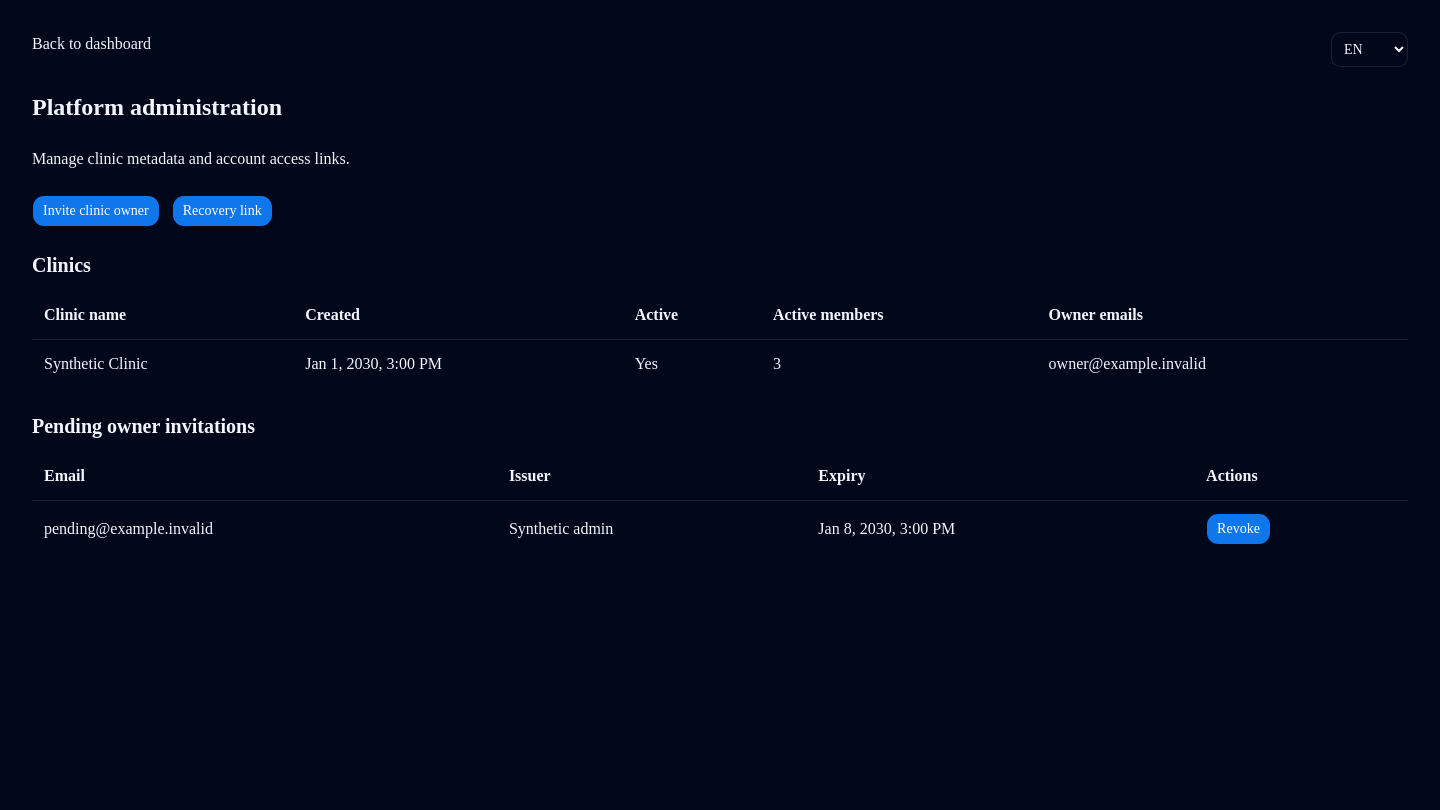
it: retains issuance failure and maps a recovery domain error
The image size is (1440, 810).
Step 1. Click the button "Recovery link" → (222, 211), box [172, 195, 273, 227]
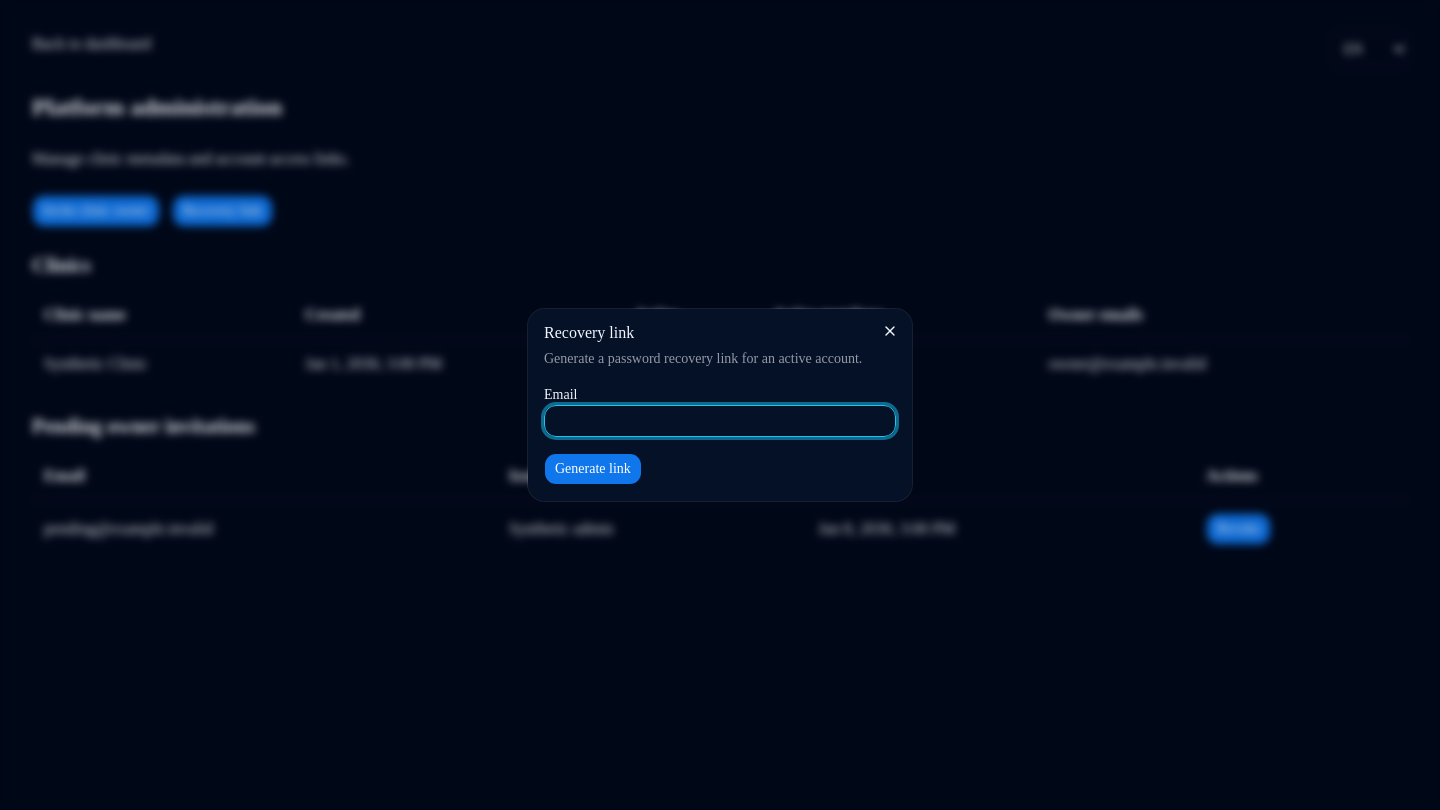
Step 2. Type "new@example.invalid" into the field labelled "Email" → (720, 421), box [544, 405, 896, 437]
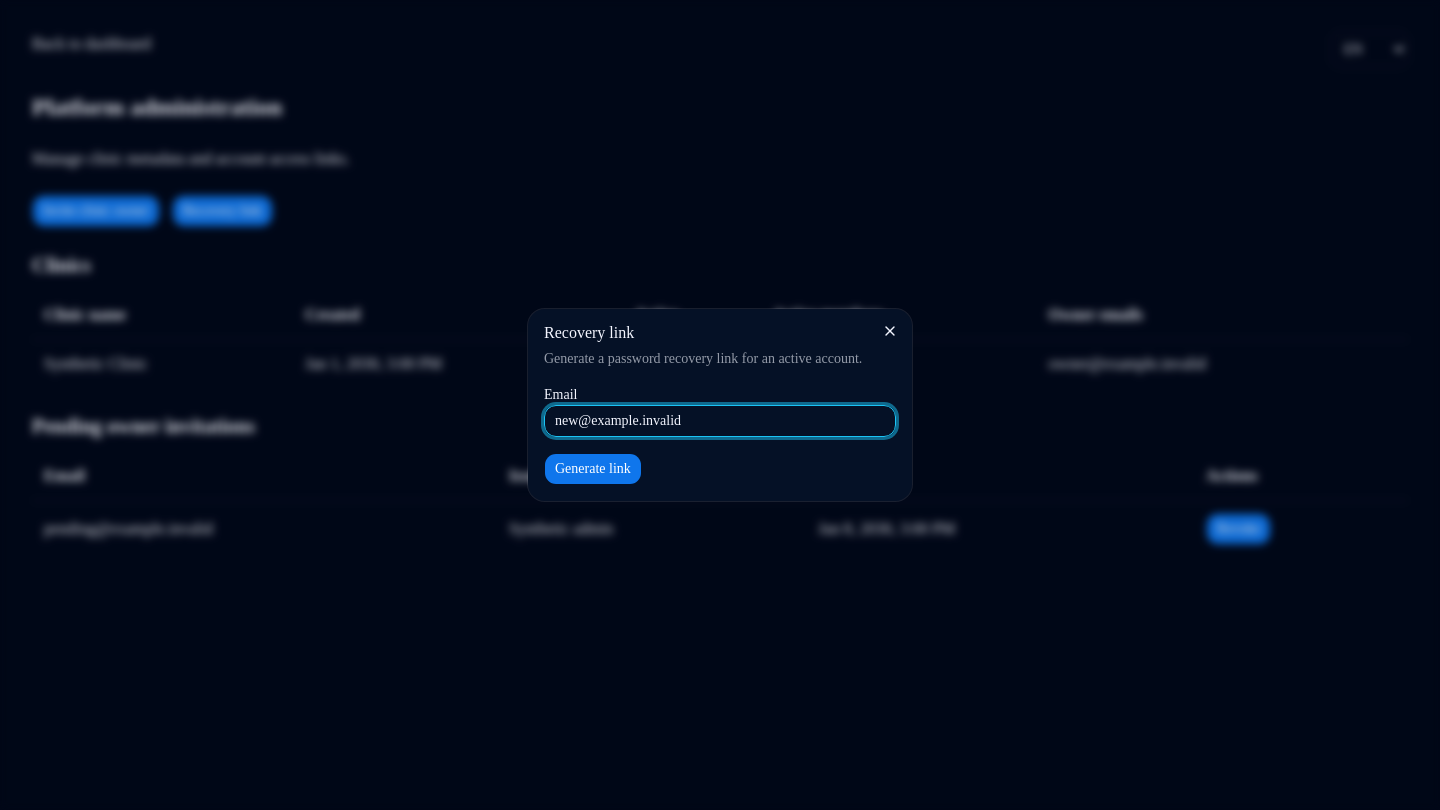
Step 3. Click the button "Generate link" → (593, 469), box [544, 453, 642, 485]
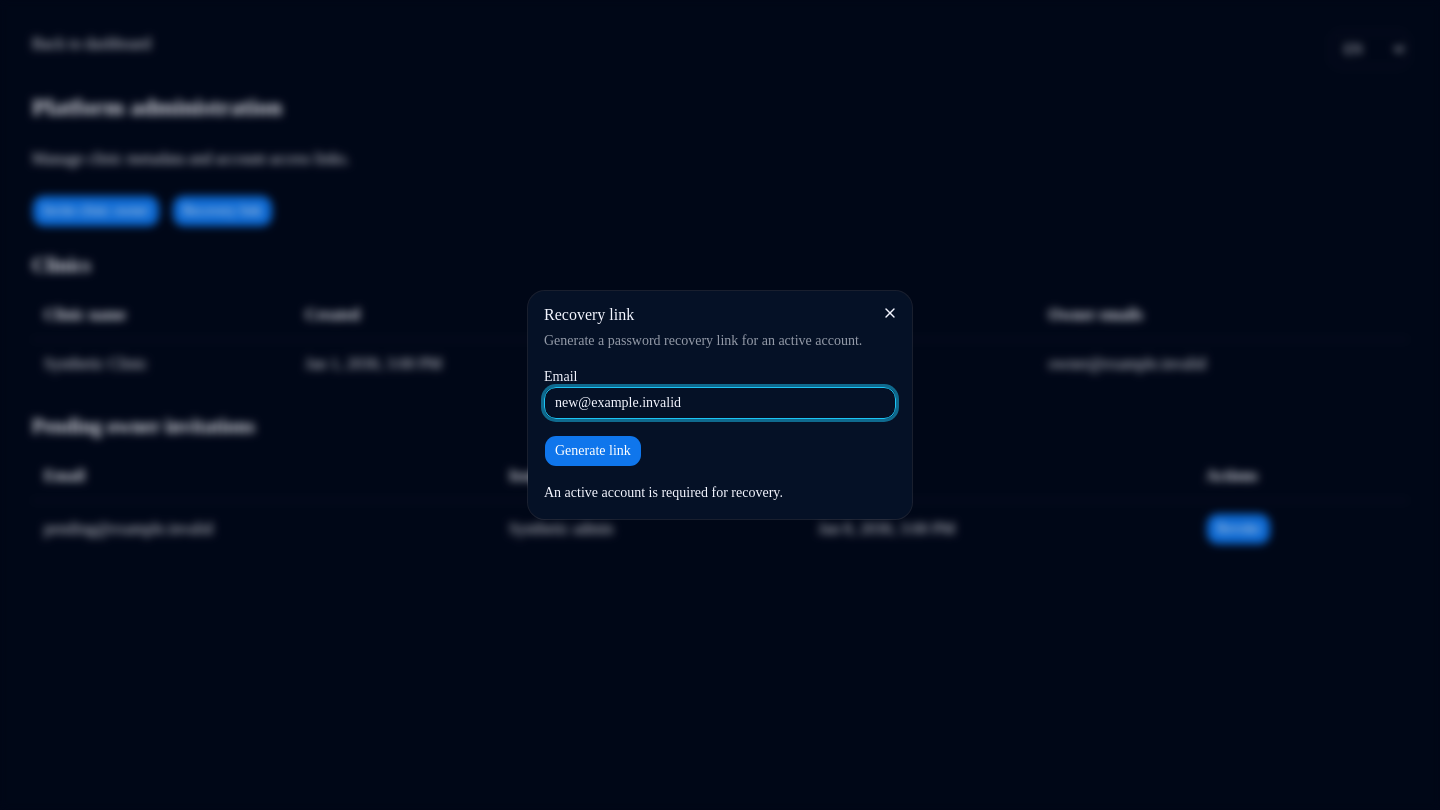
Check: the message reads "An active account is required for recovery.", box [544, 485, 783, 500]
